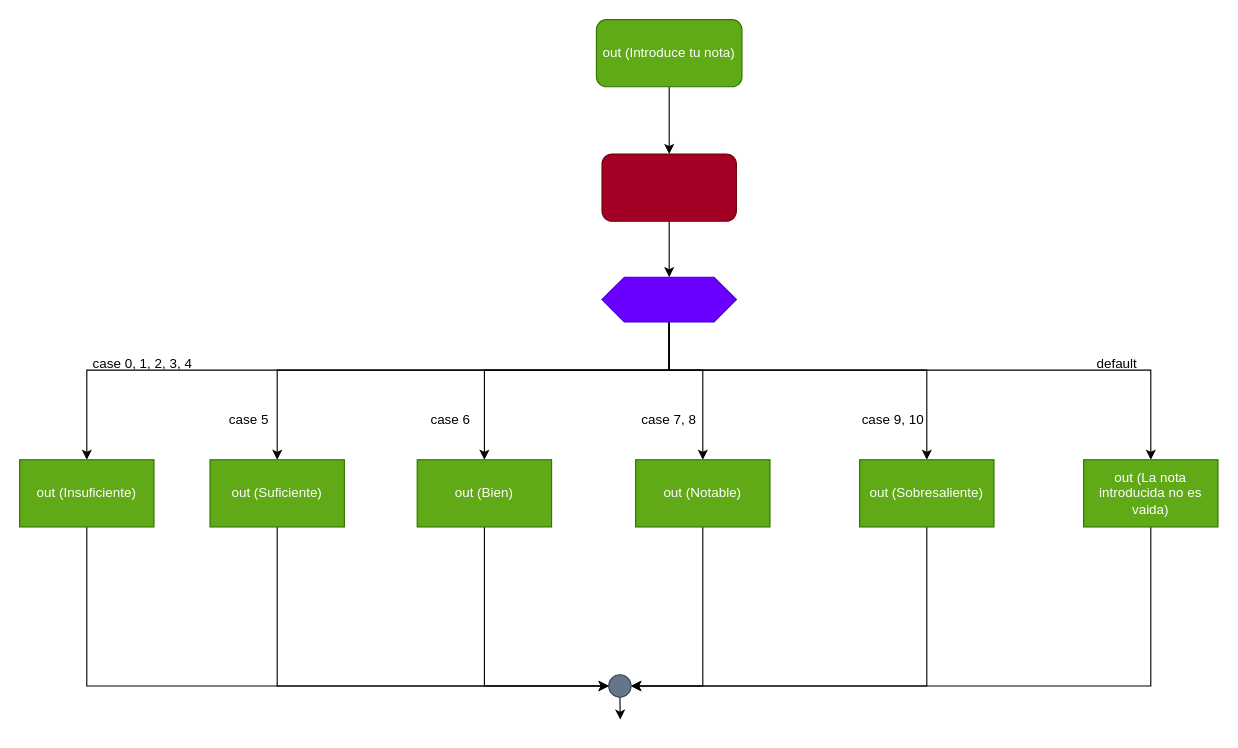
Some shapes in this 1238 by 748 pixel diagram are drawn without their labels. Each missing label, with the centre of its shape:
byte nota = read.nextByte: (668,187)
switch nota: (668,299)
